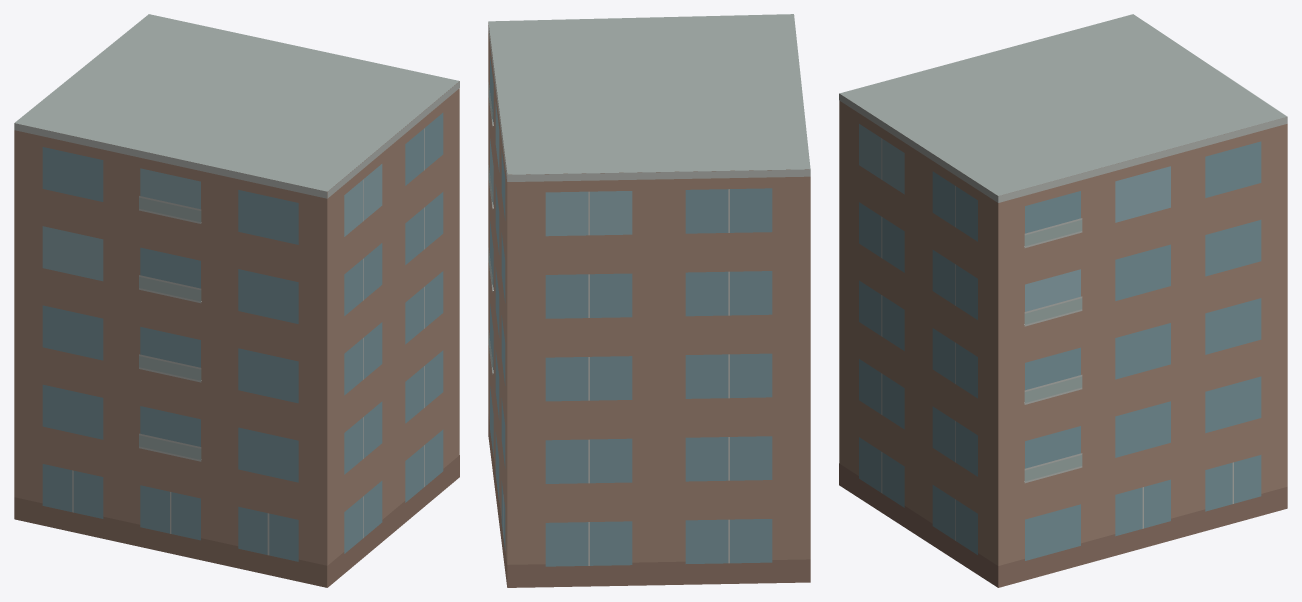
File: survey-upis-32890810.glb
3 views of the same model, side by side, from view 1: azimuth 30°, elevation 25°; view 2: azimuth 150°, elevation 25°; view 3: azimuth 270°, elevation 25° (orthographic). The views are drawn at different scales.
Visible parts, largest first — view 1: survey-upis-32890810.tmp; view 2: survey-upis-32890810.tmp; view 3: survey-upis-32890810.tmp.
Boxes of the visible parts, x1,y1,x2,y2 form: survey-upis-32890810.tmp: [14, 14, 459, 587]; survey-upis-32890810.tmp: [488, 14, 810, 587]; survey-upis-32890810.tmp: [839, 14, 1287, 587].
Size of the model in its own units: 13.66 by 13.7 by 14.22.
